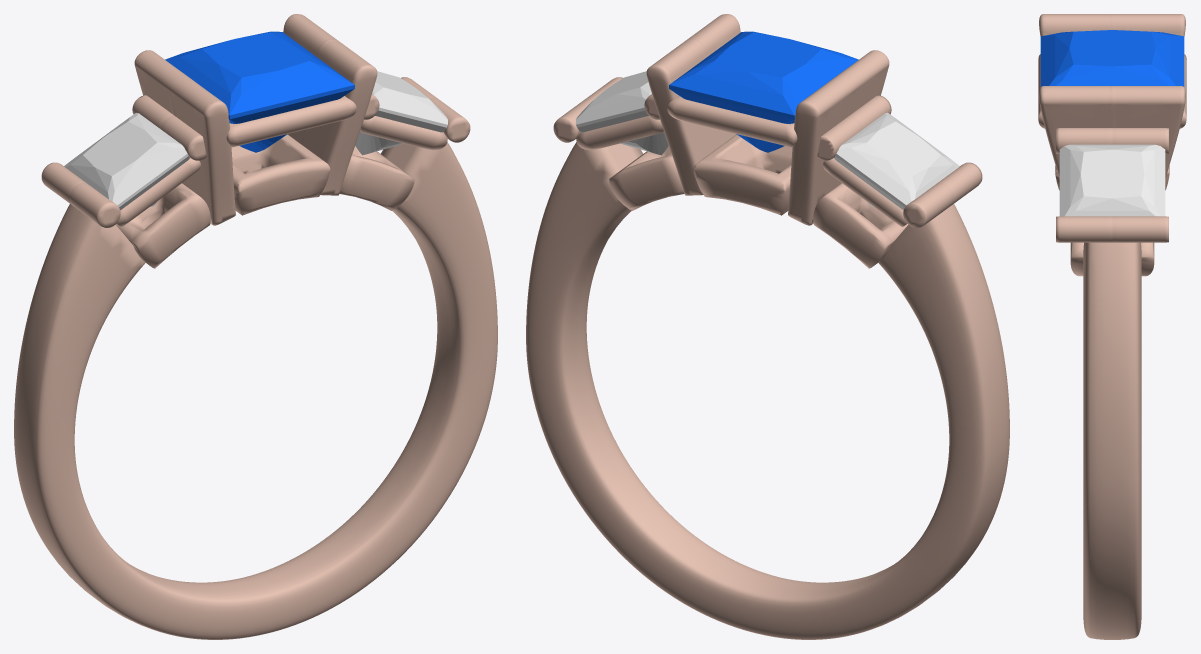
Rendered from bluesapphire-princess-rosegold-halfmoonbezel-straightband-3stone.glb.
3 renders of one model, left to right at view 1: azimuth 30°, elevation 25°; view 2: azimuth 150°, elevation 25°; view 3: azimuth 270°, elevation 25°, orthographic.
Visible parts, largest first — view 1: metal, stone, side.002, side; view 2: metal, stone, side.002, side; view 3: metal, stone, side.
Part boxes in pixels (x1,y1,x2,y2): metal: (14,14,497,639); stone: (165,31,354,152); side.002: (64,112,189,210); side: (355,71,447,155); metal: (526,14,1009,639); stone: (669,31,858,152); side.002: (834,112,959,210); side: (576,71,668,155); metal: (1038,14,1186,639); stone: (1040,30,1184,86); side: (1059,144,1165,216).
Bounding box in the file's own units: 20.1 × 23.65 × 5.6.
